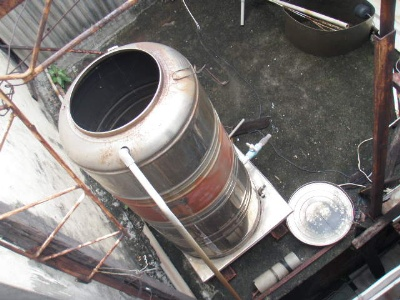bowl: (281, 1, 375, 57)
plate: (285, 180, 356, 248)
water_tower: (54, 40, 263, 261)
